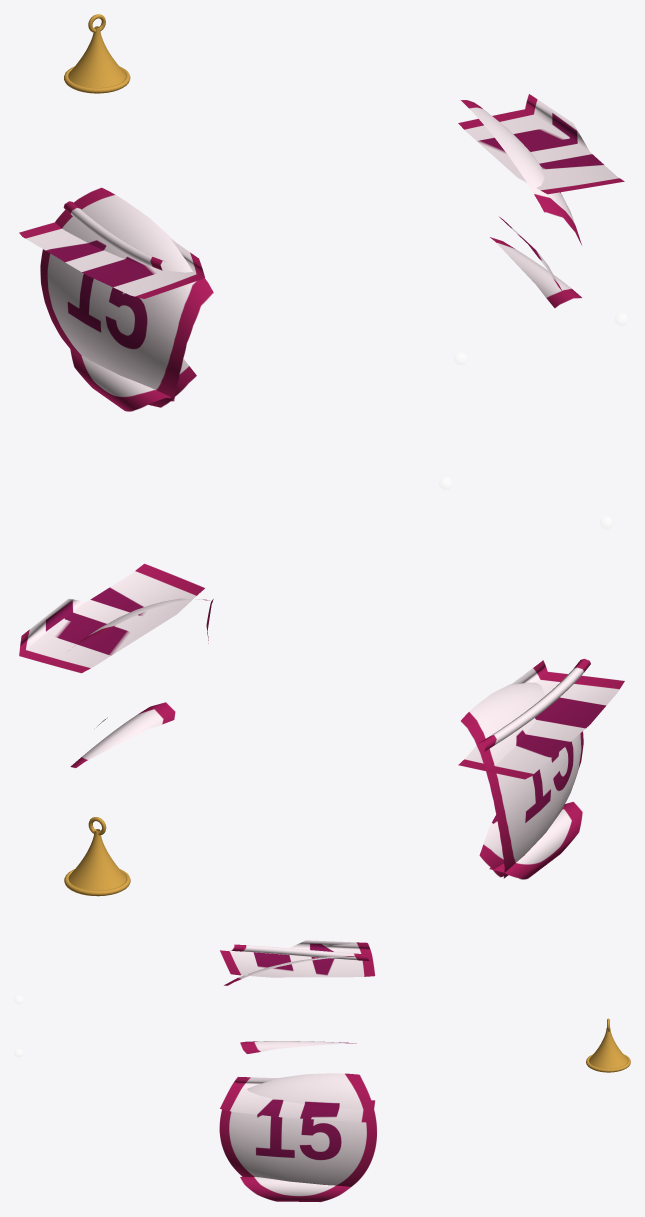
Rendered from DECO_08.glb.
3 views of the same model, one above another, from view 1: azimuth 30°, elevation 25°; view 2: azimuth 150°, elevation 25°; view 3: azimuth 270°, elevation 25° (orthographic). The views are drawn at different scales.
Parts seen in each view (by area): view 1: DECO_08; view 2: DECO_08; view 3: DECO_08.
Part boxes in pixels (x1,y1,x2,y2): DECO_08: [19, 14, 627, 411]; DECO_08: [19, 477, 624, 896]; DECO_08: [14, 940, 630, 1201].
Bounding box in the file's own units: 0.6435 × 0.2207 × 1.
Materials: 4 (1 with a texture image).
